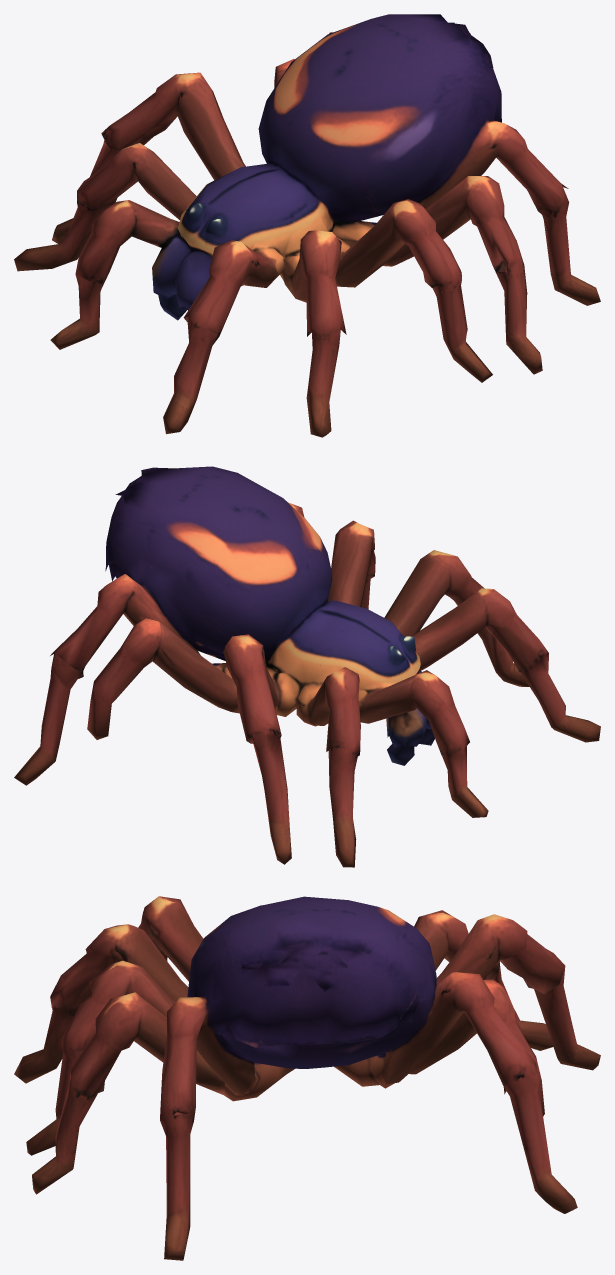
Rendered from spider.glb.
3 views of the same model, one above another, from view 1: azimuth 30°, elevation 25°; view 2: azimuth 150°, elevation 25°; view 3: azimuth 270°, elevation 25° (orthographic). The views are drawn at different scales.
Visible parts, largest first — view 1: geometry_0.001; view 2: geometry_0.001; view 3: geometry_0.001.
Part boxes in pixels (box(x1,y1,x2,y2)): geometry_0.001: box(14, 14, 600, 437); geometry_0.001: box(14, 466, 600, 867); geometry_0.001: box(14, 896, 600, 1260).
Bounding box in the file's own units: 1.98 × 1.06 × 1.99.
Materials: 1 (1 with a texture image).
